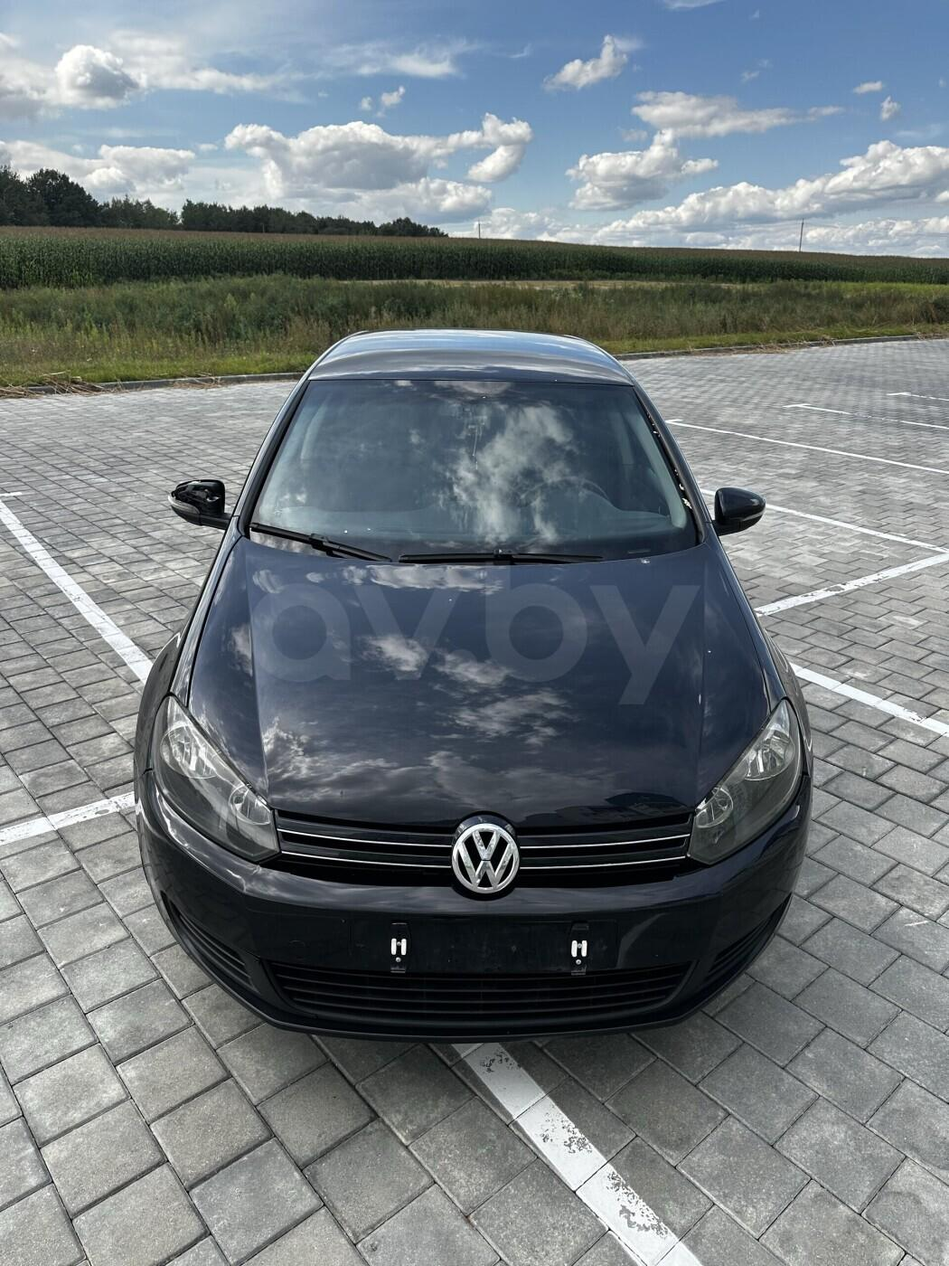Golf_2008-2013: (120, 328, 845, 1063)
